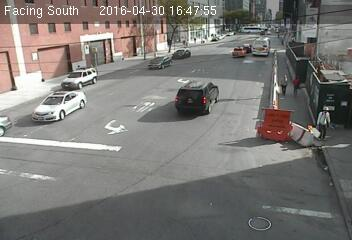neg: (42, 159, 77, 206), (182, 76, 209, 112), (82, 111, 108, 146), (95, 67, 120, 101), (227, 106, 249, 134), (170, 159, 191, 188), (287, 137, 308, 164), (235, 27, 254, 52), (161, 32, 174, 49)
pos: (313, 103, 340, 139), (275, 73, 292, 96), (290, 74, 306, 95)
